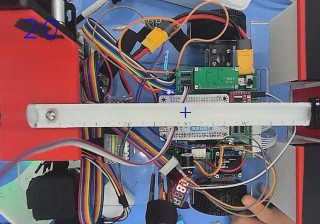ironball: (43, 107, 57, 121)
